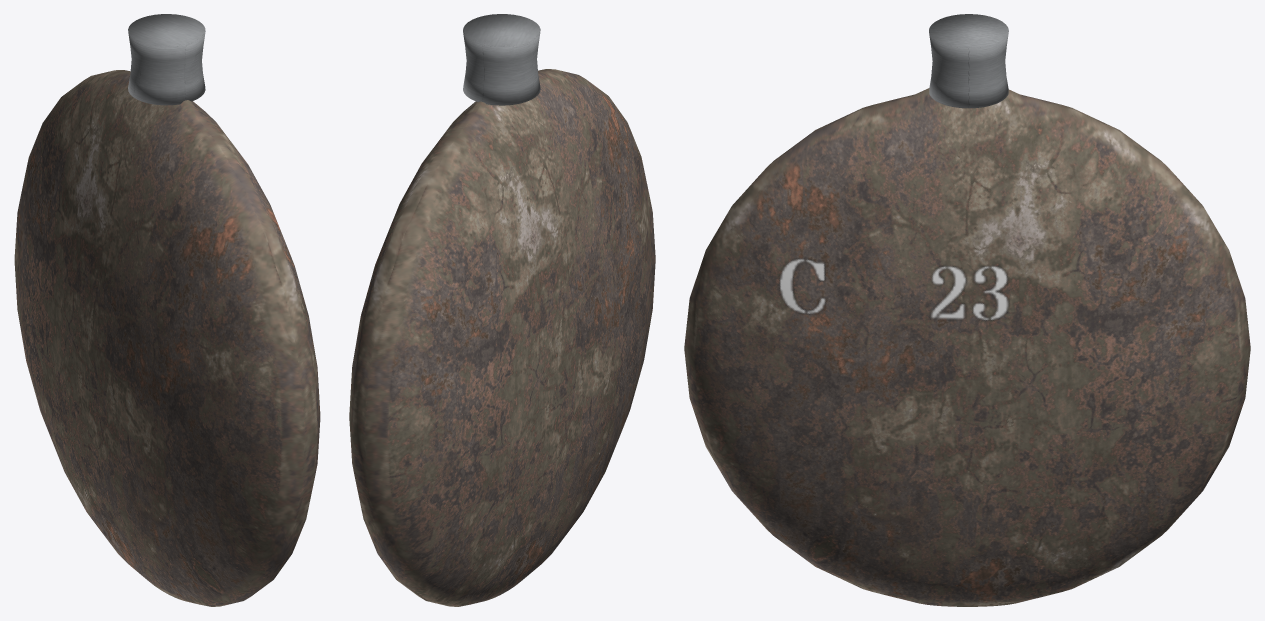
The model's file is scp109.gltf.
3 views of the same model, side by side, from view 1: azimuth 30°, elevation 25°; view 2: azimuth 150°, elevation 25°; view 3: azimuth 270°, elevation 25° (orthographic). The views are drawn at different scales.
Visible parts, largest first — view 1: Sphere, Cylinder; view 2: Sphere, Cylinder; view 3: Sphere, Cylinder.
Boxes of the visible parts, x1,y1,x2,y2 form: Sphere: (14,70,320,606); Cylinder: (128,14,205,105); Sphere: (349,69,655,606); Cylinder: (463,14,540,105); Sphere: (684,88,1250,606); Cylinder: (929,14,1008,108).
Size of the model in its own units: 0.1182 by 0.4599 by 0.4112.
Materials: 2 (2 with a texture image).
